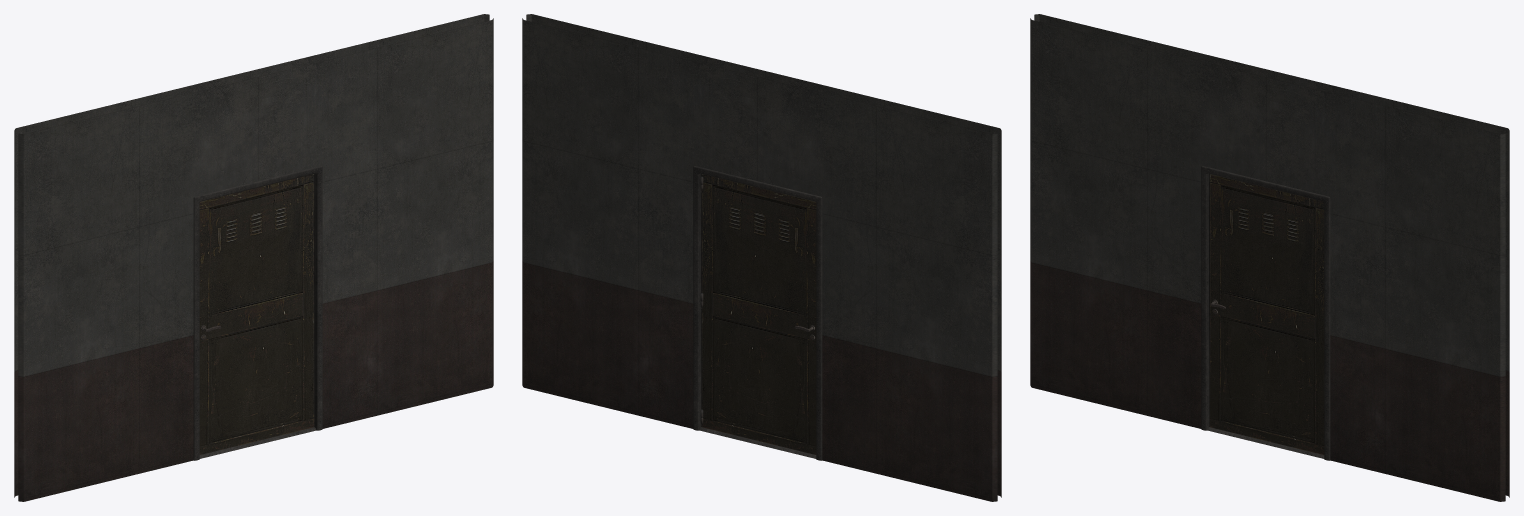
File: doorway_4_plain.fbx
3 renders of one model, left to right at view 1: azimuth 30°, elevation 25°; view 2: azimuth 150°, elevation 25°; view 3: azimuth 330°, elevation 25°, orthographic.
Visible parts, largest first — view 1: doorway_4_plain, door_8; view 2: doorway_4_plain, door_8; view 3: doorway_4_plain, door_8.
Part boxes in pixels (left/top/right/bottom): doorway_4_plain: left=14, top=14, right=493, bottom=501; door_8: left=199, top=174, right=314, bottom=454; doorway_4_plain: left=522, top=14, right=1001, bottom=501; door_8: left=700, top=174, right=816, bottom=454; doorway_4_plain: left=1030, top=14, right=1509, bottom=501; door_8: left=1209, top=174, right=1324, bottom=454.
Size of the model in its own units: 4.06 by 0.18 by 3.
